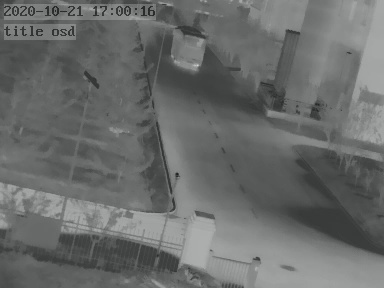vehicle: (171, 26, 205, 69)
